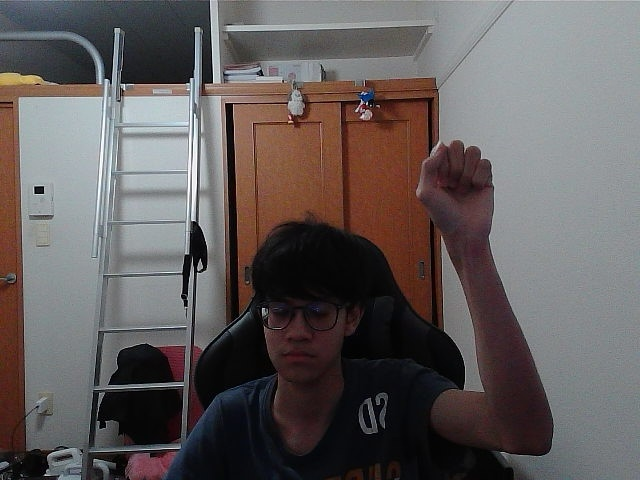closed_palm: (425, 146, 485, 225)
